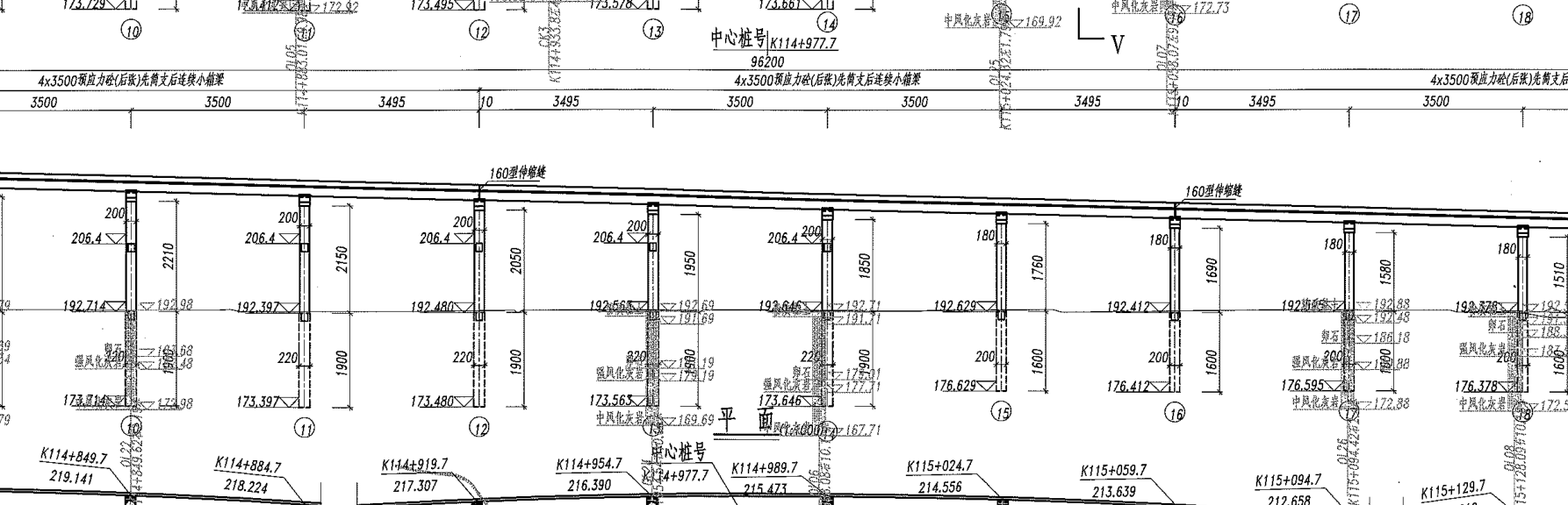C: (226, 184, 325, 444), (54, 181, 152, 442), (401, 190, 499, 444), (752, 199, 847, 448), (583, 196, 672, 443), (925, 206, 1022, 429), (1097, 211, 1195, 430), (1277, 216, 1366, 426), (1449, 219, 1539, 425)
